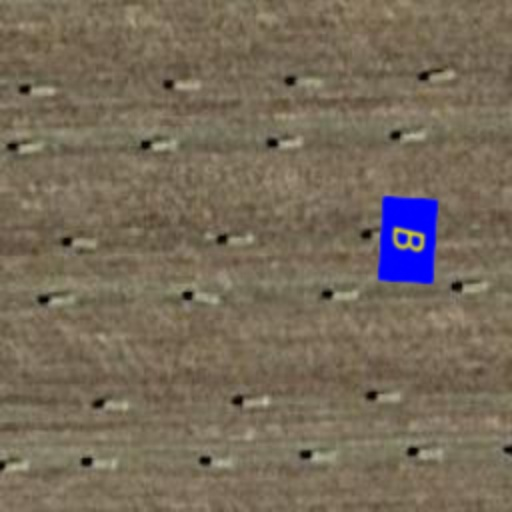rectangle: (362, 194, 454, 286)
